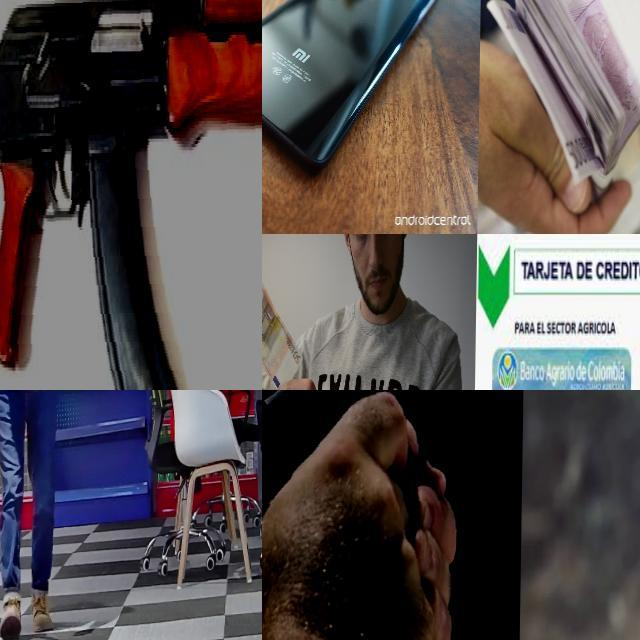gun-knife-thesis - v11 Yolov5 augmented: (0, 0, 262, 390), (262, 390, 526, 640), (0, 390, 30, 419)
